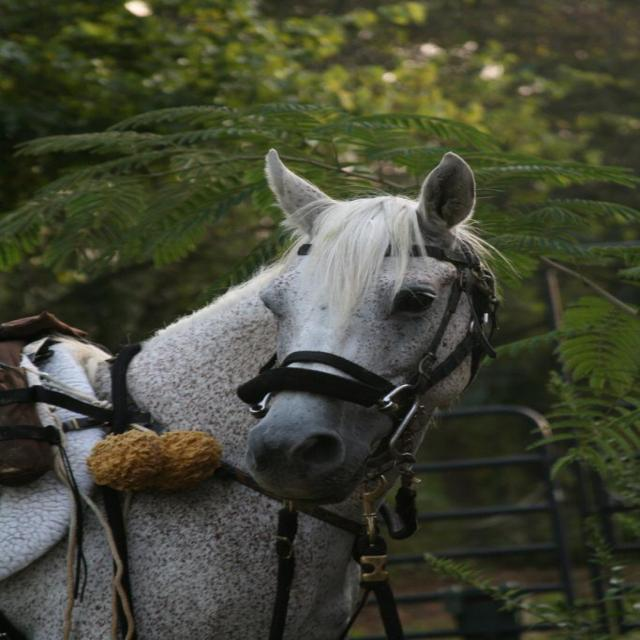Horse: (0, 147, 514, 639)
